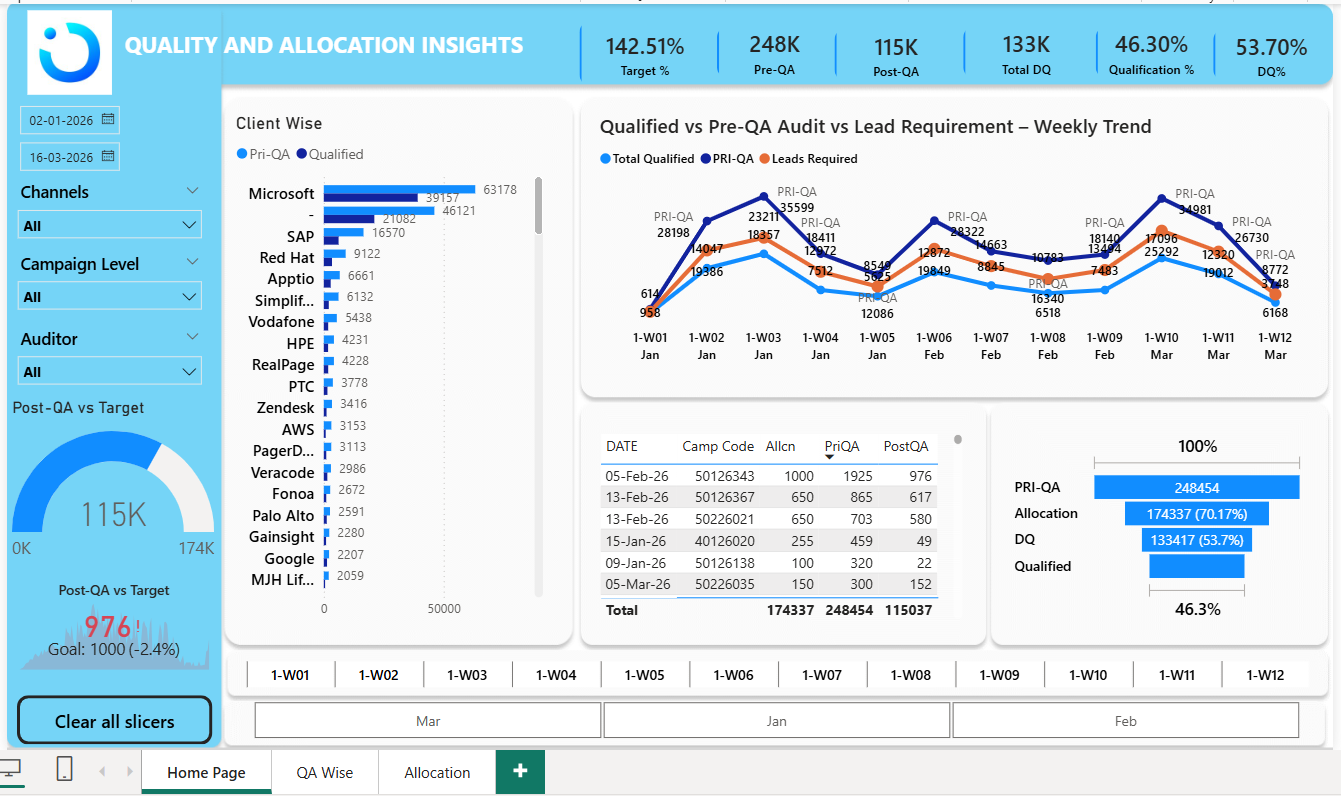

The dashboard page shown, as its layout file describes it:
{"tool":"powerbi","page":{"name":"Home Page","canvas":[1280,720],"ordinal":0},"visuals":[{"type":"cardVisual","fields":{"Data":["Allocation.Qualification %"]},"box":[1048.9,19.7,113.1,55.7],"z":0},{"type":"cardVisual","fields":{"Data":["Allocation.DQ%"]},"box":[1162,21.3,118,55.7],"z":1000},{"type":"cardVisual","fields":{"Data":["Allocation.DQ Count"]},"box":[921.1,19.7,127.8,55.7],"z":2000},{"type":"cardVisual","fields":{"Data":["Sum(Allocation.Qualified)"]},"box":[796.5,21.3,124.6,55.7],"z":3000},{"type":"cardVisual","fields":{"Data":["Sum(Allocation.DailyPreQAAudit)"]},"box":[683.4,19.7,116.4,55.7],"z":4000},{"type":"cardVisual","fields":{"Data":["Allocation.Campaign Completion %"]},"box":[550.7,14.8,132.8,67.2],"z":5000},{"type":"lineChart","title":"Qualified vs Pre-QA Audit vs Lead Requirement – Weekly Trend","fields":{"Category":["Calender Table.Q-Week","Calender Table.Month_Name"],"Y":["Sum(Allocation.Qualified)","Sum(Allocation.DailyPreQAAudit)","Sum(Allocation.Leads Required)"]},"box":[567.1,104.9,688.3,249.1],"z":6000},{"type":"slicer","fields":{"Values":["Calender Table.Date"]},"box":[0,88.5,198.3,81.9],"z":7000},{"type":"funnel","fields":{"Y":["Sum(Allocation.DailyPreQAAudit)","Sum(Allocation.Leads Required)","Allocation._DQ Count","Sum(Allocation.Qualified)"]},"box":[970.2,409.7,285.2,188.5],"z":8000},{"type":"kpi","title":"Post-QA vs Target","fields":{"Goal":["Sum(Allocation.Leads Required)"],"Indicator":["Sum(Allocation.Qualified)"],"TrendLine":["Allocation.Qualified"]},"box":[6,556.2,194.2,91.7],"z":9000},{"type":"slicer","fields":{"Values":["Allocation.Channels"]},"box":[0,165.5,198.3,63.9],"z":10000},{"type":"slicer","fields":{"Values":["Allocation.Campaign Level"]},"box":[0,234.4,198.3,72.1],"z":11000},{"type":"clusteredBarChart","title":"Client Wise","fields":{"Category":["Allocation.Client"],"Y":["Sum(Allocation.DailyPreQAAudit)","Sum(Allocation.Qualified)"]},"box":[216.3,104.9,306.5,496.6],"z":12000},{"type":"slicer","fields":{"Values":["Calender Table.Month_Name"]},"box":[216.3,670.3,1052.2,41],"z":13000},{"type":"slicer","fields":{"Values":["Calender Table.Q-Week"]},"box":[204.9,627.7,1075.1,39.3],"z":14000},{"type":"slicer","fields":{"Values":["Allocation.Auditor"]},"box":[0,306.5,198.3,73.8],"z":15000},{"type":"gauge","title":"Post-QA vs Target","fields":{"MaxValue":["Sum(Allocation.Leads Required)"],"Y":["Sum(Allocation.Qualified)"]},"box":[0,380,205.1,176.1],"z":16000},{"type":"tableEx","fields":{"Values":["Allocation.DATE","Allocation.Campaign Code","Sum(Allocation.Leads Required)","Sum(Allocation.DailyPreQAAudit)","Sum(Allocation.Qualified)"]},"box":[567.1,409.7,360.6,188.5],"z":17000},{"type":"actionButton","box":[9.8,667,188.5,47.5],"z":18000},{"type":"textbox","box":[108.2,19.7,408.1,68.8],"z":19000},{"type":"image","box":[18,6.6,85.2,81.9],"z":20000}]}

Visuals, with their boxes on the page's 1280x720 design canvas (x1, y1, x2, y2). These are canvas units, not pixel positions in the 1341x796 screenshot, which may show the page scaled, cropped or inside an application window:
cardVisual - Allocation.Qualification %: <region>1049, 20, 1162, 75</region>
cardVisual - Allocation.DQ%: <region>1162, 21, 1280, 77</region>
cardVisual - Allocation.DQ Count: <region>921, 20, 1049, 75</region>
cardVisual - Sum(Allocation.Qualified): <region>796, 21, 921, 77</region>
cardVisual - Sum(Allocation.DailyPreQAAudit): <region>683, 20, 800, 75</region>
cardVisual - Allocation.Campaign Completion %: <region>551, 15, 684, 82</region>
"Qualified vs Pre-QA Audit vs Lead Requirement – Weekly Trend" lineChart: <region>567, 105, 1255, 354</region>
slicer - Calender Table.Date: <region>0, 88, 198, 170</region>
funnel - Sum(Allocation.DailyPreQAAudit) x Sum(Allocation.Leads Required): <region>970, 410, 1255, 598</region>
"Post-QA vs Target" kpi: <region>6, 556, 200, 648</region>
slicer - Allocation.Channels: <region>0, 166, 198, 229</region>
slicer - Allocation.Campaign Level: <region>0, 234, 198, 306</region>
"Client Wise" clusteredBarChart: <region>216, 105, 523, 602</region>
slicer - Calender Table.Month_Name: <region>216, 670, 1268, 711</region>
slicer - Calender Table.Q-Week: <region>205, 628, 1280, 667</region>
slicer - Allocation.Auditor: <region>0, 306, 198, 380</region>
"Post-QA vs Target" gauge: <region>0, 380, 205, 556</region>
tableEx - Allocation.DATE x Allocation.Campaign Code: <region>567, 410, 928, 598</region>
actionButton: <region>10, 667, 198, 714</region>
textbox: <region>108, 20, 516, 88</region>
image: <region>18, 7, 103, 88</region>
